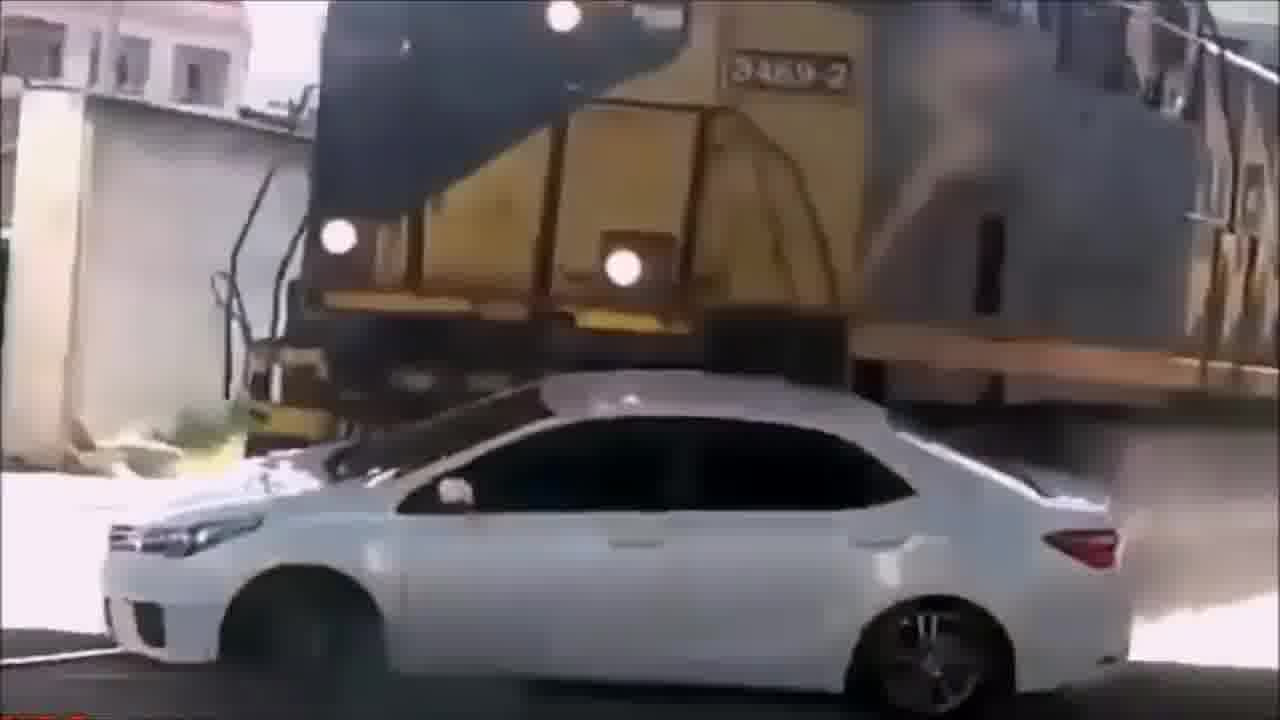crossing railway track: (81, 333, 1192, 693)
